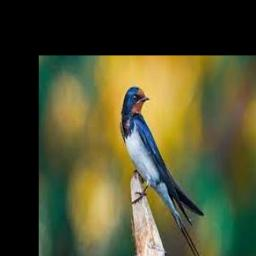Swallow: (121, 86, 204, 256)
